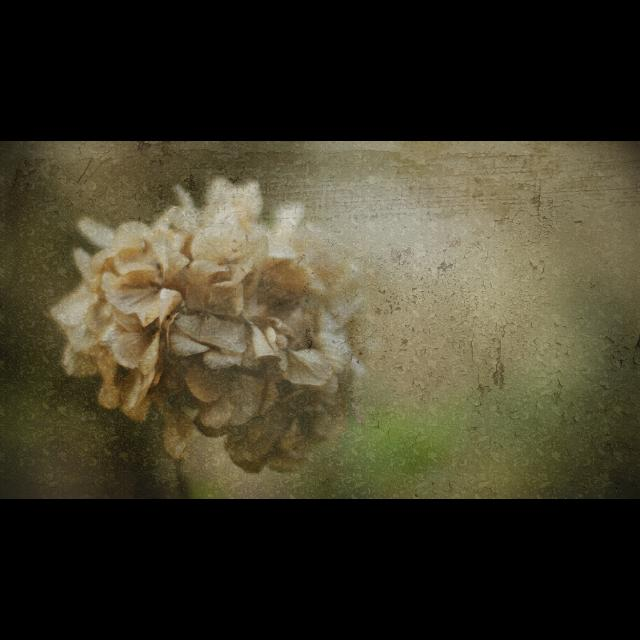Flower: (51, 180, 359, 474)
